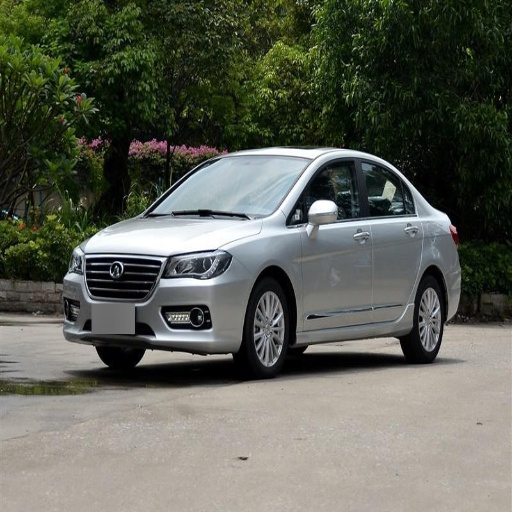back_left_door: (359, 155, 422, 320)
front_bumper: (62, 248, 254, 356)
front_glass: (146, 157, 309, 218)
front_left_door: (293, 155, 372, 325)
